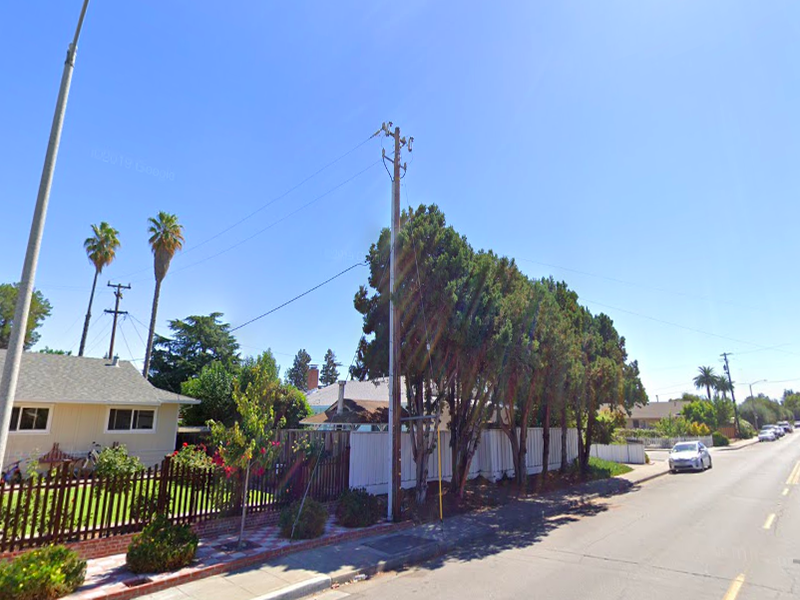utility_pole: (366, 111, 421, 194)
